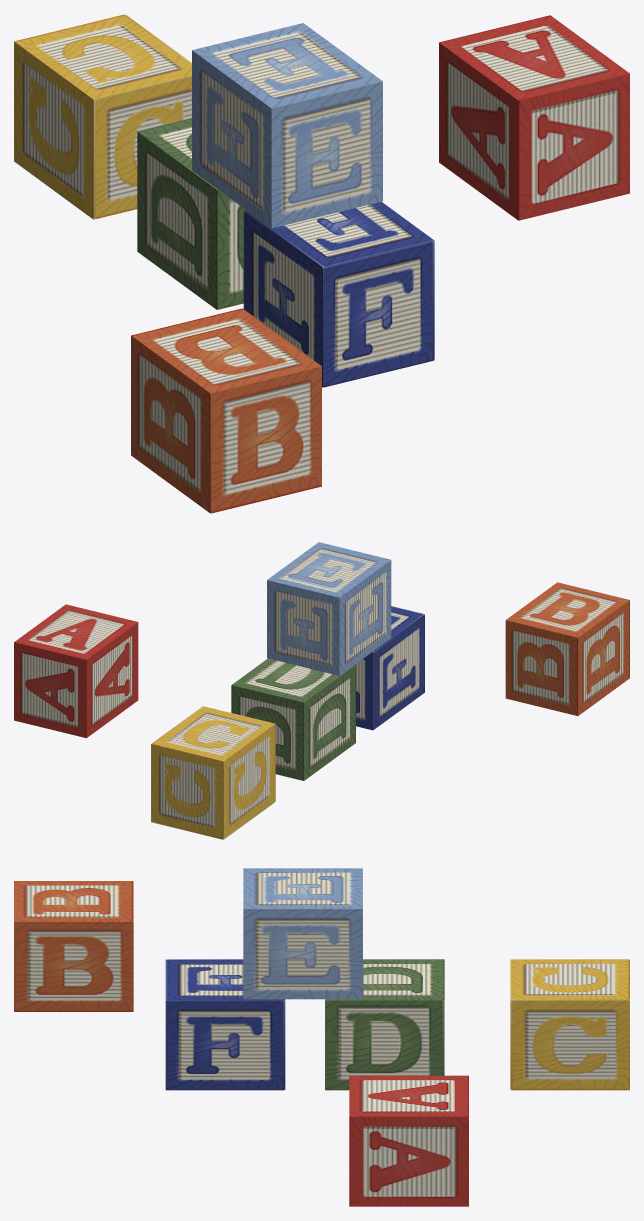
Rendered from toyBlocks.obj.
3 views of the same model, one above another, from view 1: azimuth 30°, elevation 25°; view 2: azimuth 150°, elevation 25°; view 3: azimuth 270°, elevation 25° (orthographic). The views are drawn at different scales.
Visible parts, largest first — view 1: BBlock, ABlock, EBlock, FBlock, CBlock, DBlock; view 2: CBlock, BBlock, ABlock, EBlock, DBlock, FBlock; view 3: CBlock, ABlock, EBlock, BBlock, FBlock, DBlock.
Part boxes in pixels (x1,y1,x2,y2): BBlock: [131, 308, 321, 513]; ABlock: [439, 15, 629, 220]; EBlock: [192, 23, 382, 228]; FBlock: [243, 201, 434, 387]; CBlock: [14, 14, 191, 219]; DBlock: [137, 118, 244, 309]; CBlock: [151, 706, 275, 839]; BBlock: [505, 582, 629, 715]; ABlock: [14, 604, 138, 738]; EBlock: [267, 542, 391, 675]; DBlock: [231, 658, 355, 780]; FBlock: [355, 606, 424, 730]; CBlock: [510, 959, 629, 1090]; ABlock: [349, 1075, 468, 1206]; EBlock: [243, 868, 362, 999]; BBlock: [14, 881, 133, 1011]; FBlock: [165, 959, 285, 1090]; DBlock: [325, 959, 444, 1090].
Bounding box in the file's own units: 4.02 × 1.45 × 4.45.
